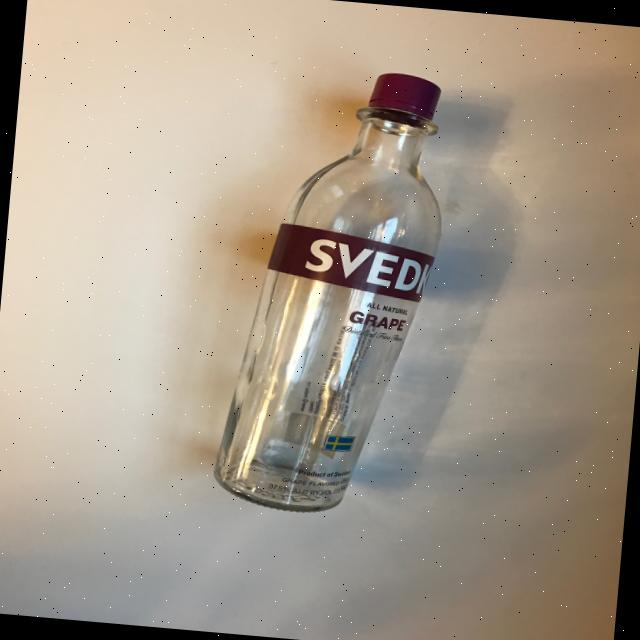glass: (208, 59, 456, 522)
